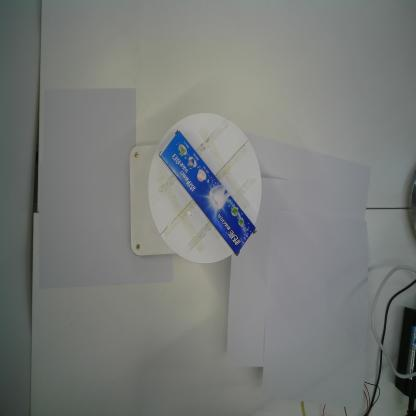Personal Hygiene: (158, 125, 258, 260)
